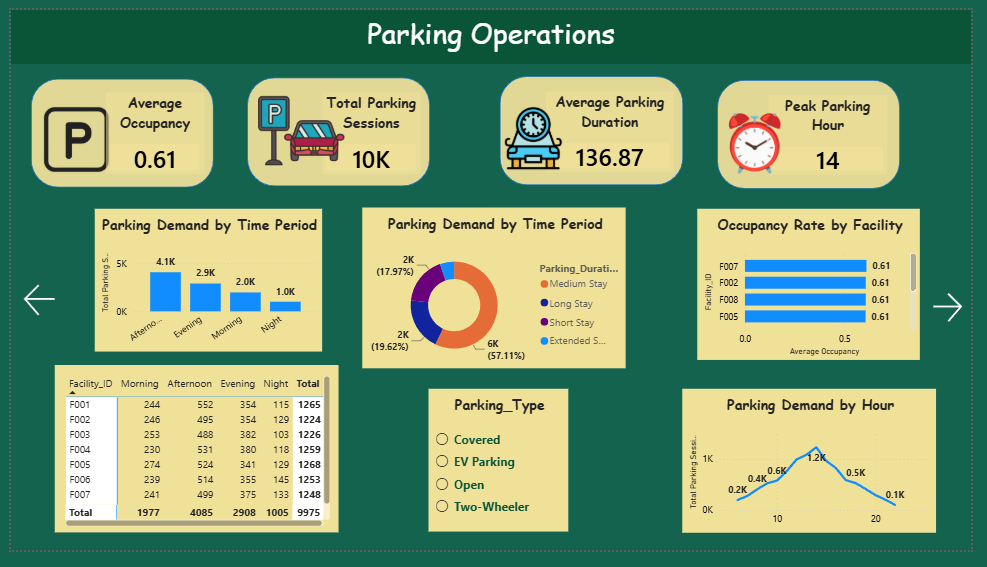

The page's visual inventory and layout, read from the dashboard file:
{"tool":"powerbi","page":{"name":"Parking","canvas":[1280,720],"ordinal":1},"visuals":[{"type":"textbox","box":[0,0,1280,71.7],"z":0},{"type":"shape","box":[26.7,91.9,243.5,144.9],"z":1000},{"type":"image","box":[10,127.1,154.1,91.9],"z":2000},{"type":"cardVisual","title":"Average Occupancy","fields":{"Data":["Smartparking analysis.Average Occupancy"]},"box":[127.1,110,130.8,108.8],"z":3000},{"type":"shape","box":[314.3,90,243.5,144.9],"z":4000},{"type":"cardVisual","title":"Total Parking Sessions","fields":{"Data":["Smartparking analysis.Total Parking Sessions"]},"box":[415.7,110,130.8,108.8],"z":5000},{"type":"image","box":[314.3,102.9,143.7,115.6],"z":6000},{"type":"shape","box":[651.7,88.3,244.5,145.1],"z":7000},{"type":"cardVisual","title":"Average Parking Duration","fields":{"Data":["Smartparking analysis.Average Parking Duration"]},"box":[713.3,108.3,170.4,108.2],"z":8000},{"type":"image","box":[620,125,152.6,91.9],"z":9000},{"type":"shape","box":[941.7,93.3,243.5,144.9],"z":10000},{"type":"cardVisual","title":"Peak Parking Hour","fields":{"Data":["Smartparking analysis.Peak Parking Hour"]},"box":[1010,113.3,158.3,106.7],"z":11000},{"type":"image","box":[941.7,135,100,85.7],"z":12000},{"type":"clusteredBarChart","title":"Occupancy Rate by Facility","fields":{"Category":["Smartparking analysis.Facility_ID"],"Y":["Smartparking analysis.Average Occupancy"]},"box":[915,265,297.1,201.4],"z":13000},{"type":"lineChart","title":"Parking Demand by Hour","fields":{"Category":["Smartparking analysis.Entry_Hour"],"Y":["Smartparking analysis.Total Parking Sessions"]},"box":[895,505,338.3,191.7],"z":14000},{"type":"columnChart","title":"Parking Demand by Time Period","fields":{"Category":["Smartparking analysis.Entry_Hour_Category"],"Y":["Smartparking analysis.Total Parking Sessions"]},"box":[111.7,265,302.9,190],"z":15000},{"type":"donutChart","title":"Parking Demand by Time Period","fields":{"Category":["Smartparking analysis.Parking_Duration_Category"],"Y":["Smartparking analysis.Total Parking Sessions"]},"box":[468.3,263.3,351.4,214.3],"z":16000},{"type":"pivotTable","title":"Parking Demand by Hour","fields":{"Rows":["Smartparking analysis.Facility_ID"],"Values":["Smartparking analysis.Total Parking Sessions"],"Columns":["Smartparking analysis.Entry_Hour_Category"]},"box":[58.3,473.3,378.3,223.3],"z":17000},{"type":"listSlicer","fields":{"Values":["Smartparking analysis.Parking_Type"]},"box":[556.7,505,186.7,190],"z":18000},{"type":"actionButton","box":[1223.3,371.7,56.7,50],"z":18001},{"type":"actionButton","box":[11.7,360,111.7,53.3],"z":18002}]}

Visuals, with their boxes in screenshot pixels (x1, y1, x2, y2), scaled from the page's 1280x720 canvas onto the 987x567 screenshot:
textbox: 0:0:986:56
shape: 21:72:208:186
image: 8:100:127:172
"Average Occupancy" cardVisual: 98:87:199:172
shape: 242:71:430:185
"Total Parking Sessions" cardVisual: 321:87:421:172
image: 242:81:353:172
shape: 503:70:691:184
"Average Parking Duration" cardVisual: 550:85:681:170
image: 478:98:596:171
shape: 726:73:914:188
"Peak Parking Hour" cardVisual: 779:89:901:173
image: 726:106:803:174
"Occupancy Rate by Facility" clusteredBarChart: 706:209:935:367
"Parking Demand by Hour" lineChart: 690:398:951:549
"Parking Demand by Time Period" columnChart: 86:209:320:358
"Parking Demand by Time Period" donutChart: 361:207:632:376
"Parking Demand by Hour" pivotTable: 45:373:337:549
listSlicer - Smartparking analysis.Parking_Type: 429:398:573:547
actionButton: 943:293:986:332
actionButton: 9:284:95:325
